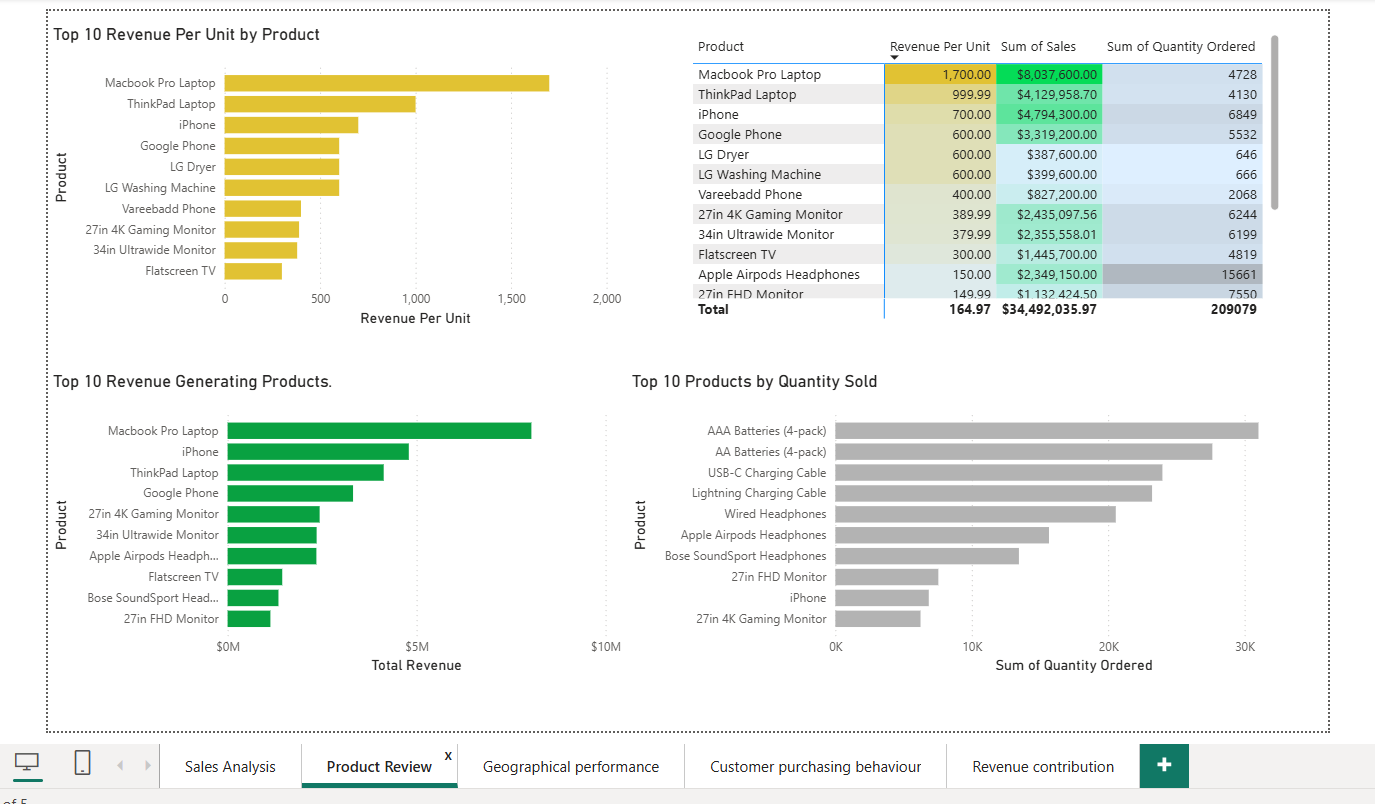

The page's visual inventory and layout, read from the dashboard file:
{"tool":"powerbi","page":{"name":"Product Review","canvas":[1280,720],"ordinal":1},"visuals":[{"type":"barChart","title":"Top 10 Revenue Generating Products.","fields":{"Category":["Sales Data For Analysis.Product"],"Y":["Sales Data For Analysis.Total Revenue"]},"box":[0,360,578.8,307.5],"z":0},{"type":"barChart","title":"Top 10 Products by Quantity Sold","fields":{"Category":["Sales Data For Analysis.Product"],"Y":["Sum(Sales Data For Analysis.Quantity Ordered)"]},"box":[578.8,360,701.2,307.5],"z":1000},{"type":"pivotTable","fields":{"Rows":["Sales Data For Analysis.Product"],"Values":["Sales Data For Analysis.Revenue Per Unit","Sum(Sales Data For Analysis.Sales)","Sum(Sales Data For Analysis.Quantity Ordered)"]},"box":[640,18.8,596.2,301.2],"z":2000},{"type":"barChart","title":"Top 10 Revenue Per Unit by Product","fields":{"Category":["Sales Data For Analysis.Product"],"Y":["Sales Data For Analysis.Revenue Per Unit"]},"box":[0,12.5,578.8,307.5],"z":2001}]}

Visuals, with their boxes on the page's 1280x720 design canvas (x1, y1, x2, y2). These are canvas units, not pixel positions in the 1375x804 screenshot, which may show the page scaled, cropped or inside an application window:
"Top 10 Revenue Generating Products." barChart: pyautogui.locateOnScreen(0, 360, 579, 668)
"Top 10 Products by Quantity Sold" barChart: pyautogui.locateOnScreen(579, 360, 1280, 668)
pivotTable - Sales Data For Analysis.Product x Sales Data For Analysis.Revenue Per Unit: pyautogui.locateOnScreen(640, 19, 1236, 320)
"Top 10 Revenue Per Unit by Product" barChart: pyautogui.locateOnScreen(0, 12, 579, 320)
